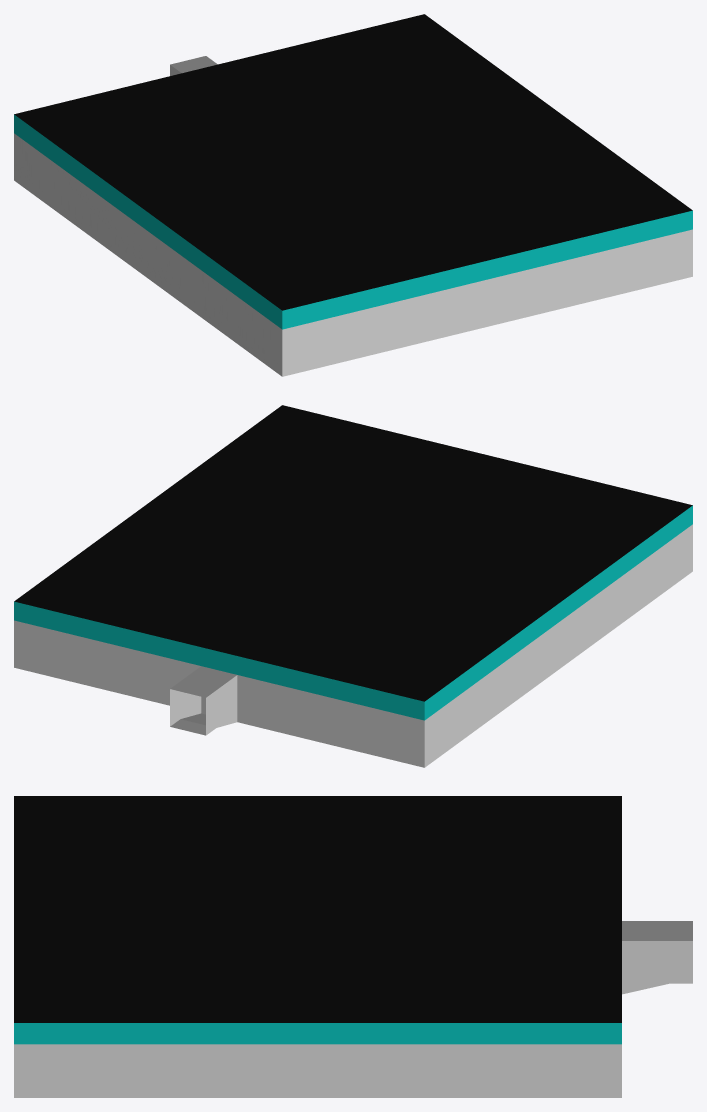
File: lobby-room.glb
3 views of the same model, one above another, from view 1: azimuth 30°, elevation 25°; view 2: azimuth 150°, elevation 25°; view 3: azimuth 270°, elevation 25° (orthographic). The views are drawn at different scales.
Visible parts, largest first — view 1: Room; view 2: Room; view 3: Room.
Boxes of the visible parts, x1=… form: Room: x1=14, y1=14, x2=692, y2=376; Room: x1=14, y1=405, x2=692, y2=767; Room: x1=14, y1=796, x2=692, y2=1097.
Size of the model in its own units: 45.45 by 7 by 57.45.
Materials: 2 (2 with a texture image).
